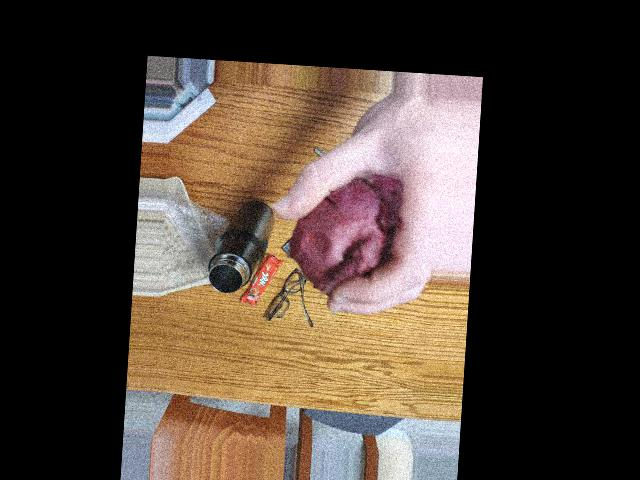onion: (309, 189, 396, 279)
